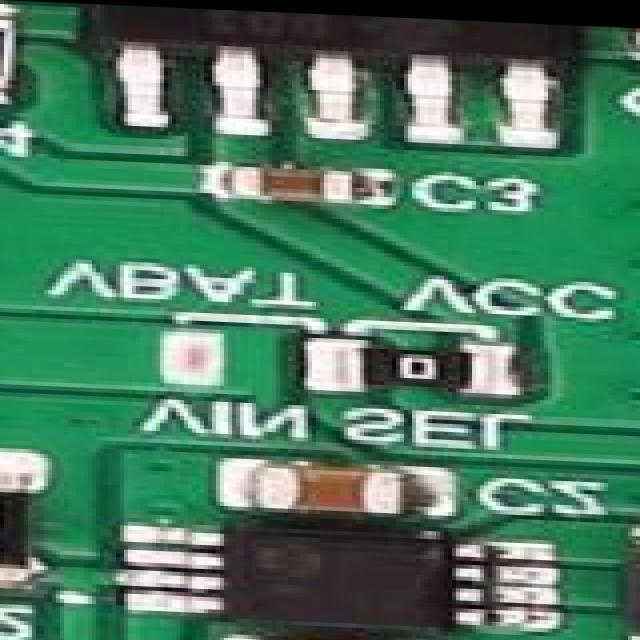IC: (100, 3, 596, 145), (176, 516, 534, 639)
capacitor: (244, 463, 430, 511), (224, 156, 390, 198), (628, 22, 640, 50)
inductor: (620, 514, 640, 640)
resistor: (348, 338, 504, 382), (0, 464, 48, 582)
